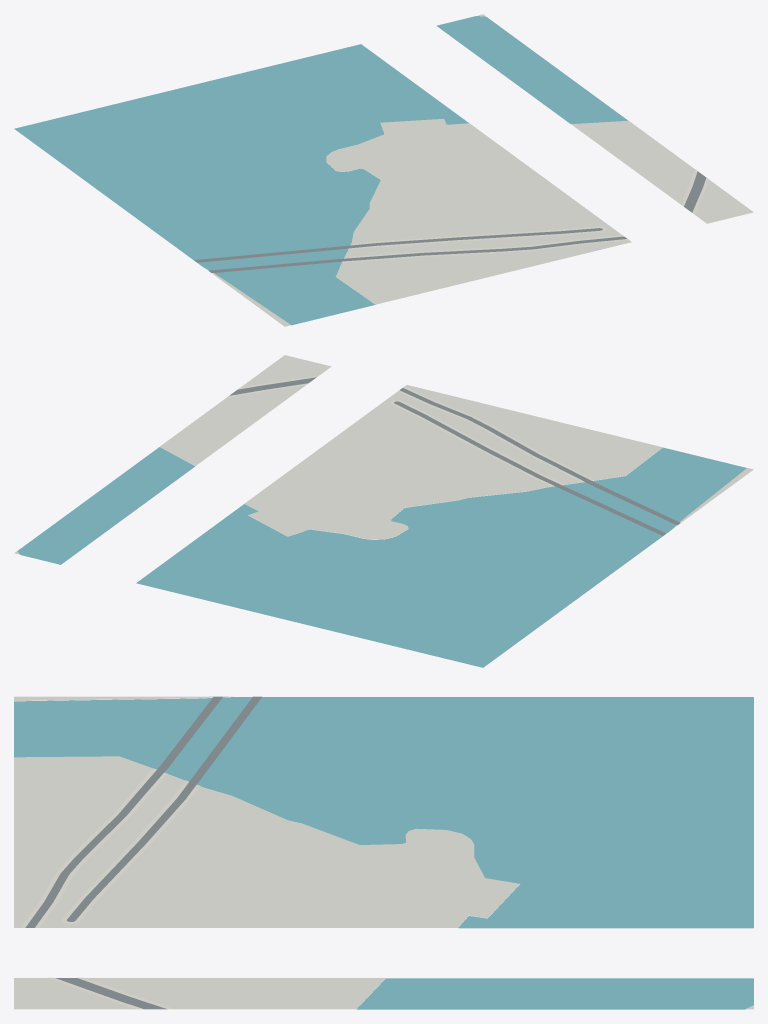
3 renders of one model, top to bottom at view 1: azimuth 30°, elevation 25°; view 2: azimuth 150°, elevation 25°; view 3: azimuth 270°, elevation 25°, orthographic. The views are drawn at different scales.
Visible parts, largest first — view 1: city; view 2: city; view 3: city.
Part boxes in pixels (x1,y1,x2,y2): city: (14,14,753,326); city: (14,355,753,667); city: (14,696,753,1009).
Bounding box in the file's own units: 500 × 0.4 × 500.
